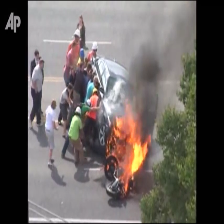fire_h: (106, 103, 147, 191)
fire_l: (106, 159, 116, 171)
